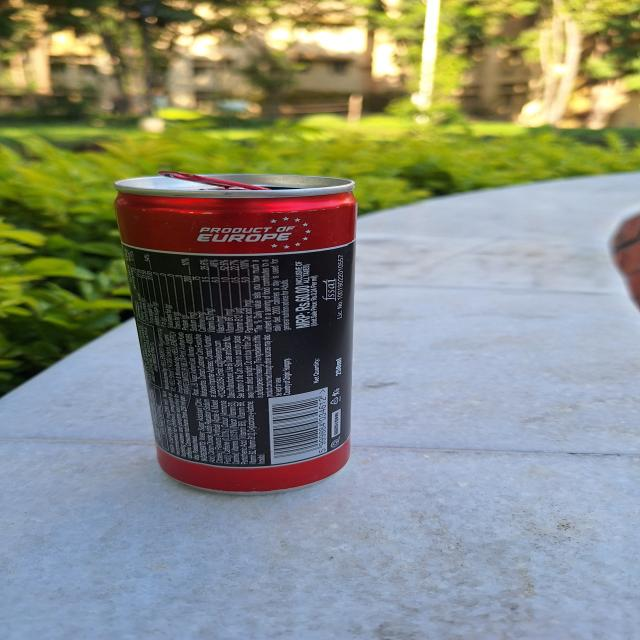Hell Apple: (112, 171, 374, 494)
